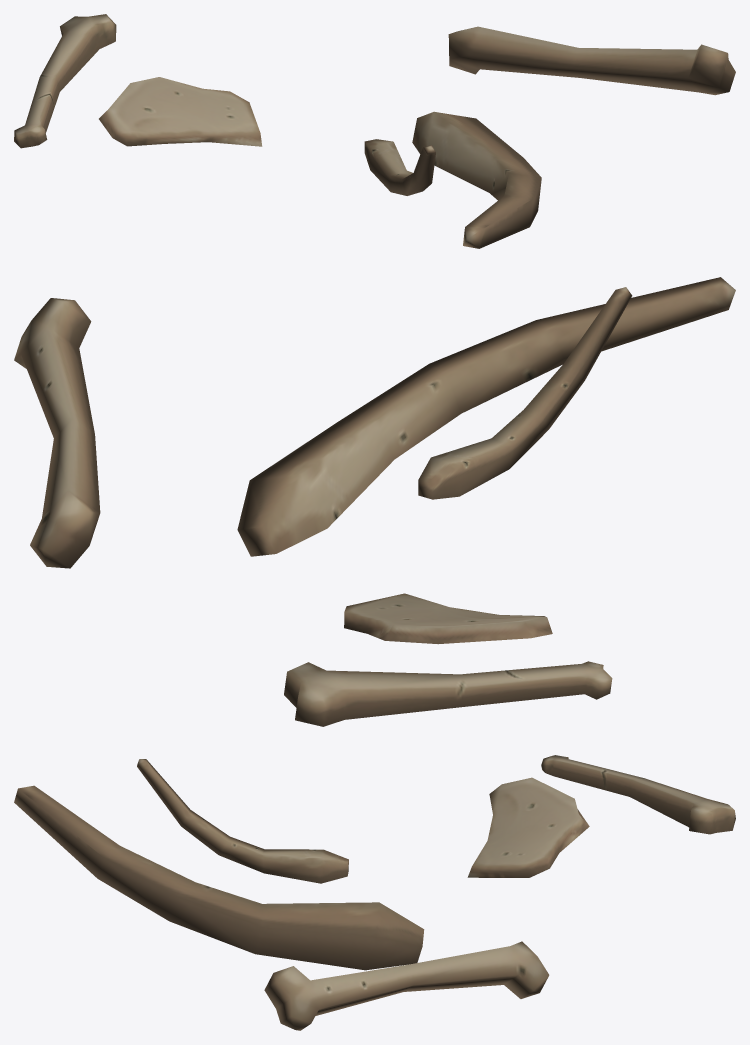
The model's file is Bones_02.fbx.
The picture shows the model from 3 angles, top to bottom: view 1: azimuth 30°, elevation 25°; view 2: azimuth 150°, elevation 25°; view 3: azimuth 270°, elevation 25°; orthographic projection. The views are drawn at different scales.
Visible parts, largest first — view 1: polySurface666; view 2: polySurface666; view 3: polySurface666.
Part boxes in pixels (x1=…): polySurface666: x1=14, y1=14, x2=735, y2=248; polySurface666: x1=14, y1=277, x2=735, y2=726; polySurface666: x1=14, y1=755, x2=735, y2=1030.
Size of the model in its own units: 2.17 by 0.5016 by 2.36.
1 material, 1 textured.
